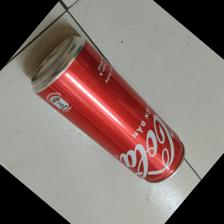Coca: (30, 34, 186, 184)
